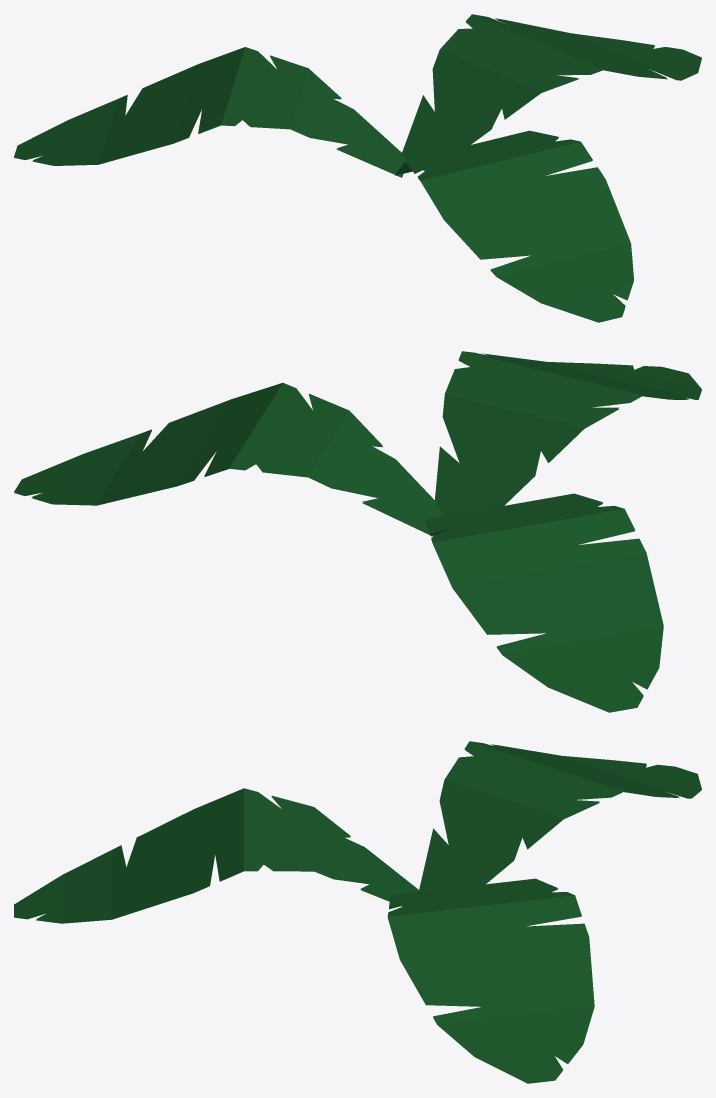
The model's file is Greenery_02.fbx.
3 renders of one model, top to bottom at view 1: azimuth 30°, elevation 25°; view 2: azimuth 150°, elevation 25°; view 3: azimuth 270°, elevation 25°, orthographic. The views are drawn at different scales.
Visible parts, largest first — view 1: Plane.001; view 2: Plane.001; view 3: Plane.001.
Boxes of the visible parts, bbox=[...] form: Plane.001: bbox=[14, 14, 701, 322]; Plane.001: bbox=[14, 351, 701, 712]; Plane.001: bbox=[14, 741, 701, 1083].
Size of the model in its own units: 317 by 38.56 by 292.
